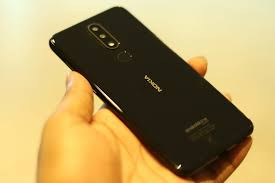nokia: (42, 5, 256, 183)
